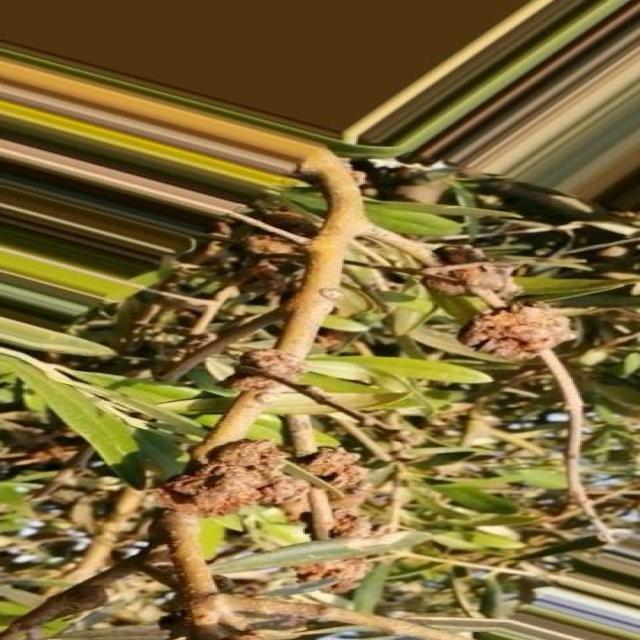Tuberculosis: (158, 439, 308, 518), (431, 303, 576, 362), (300, 448, 374, 532), (423, 262, 513, 306), (220, 348, 302, 392), (296, 558, 370, 594)
